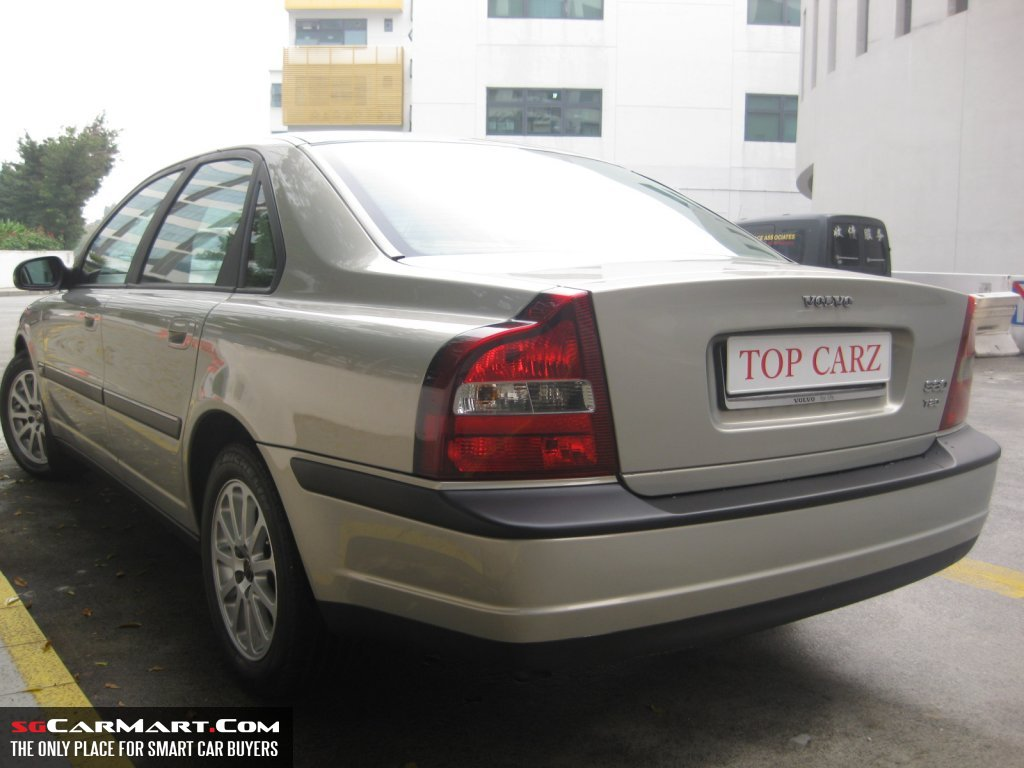car: (5, 127, 1004, 687)
